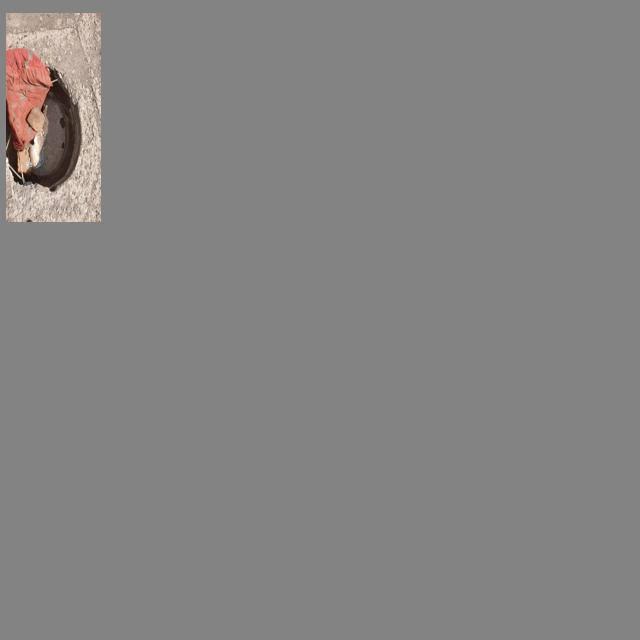broke: (8, 53, 92, 208)
